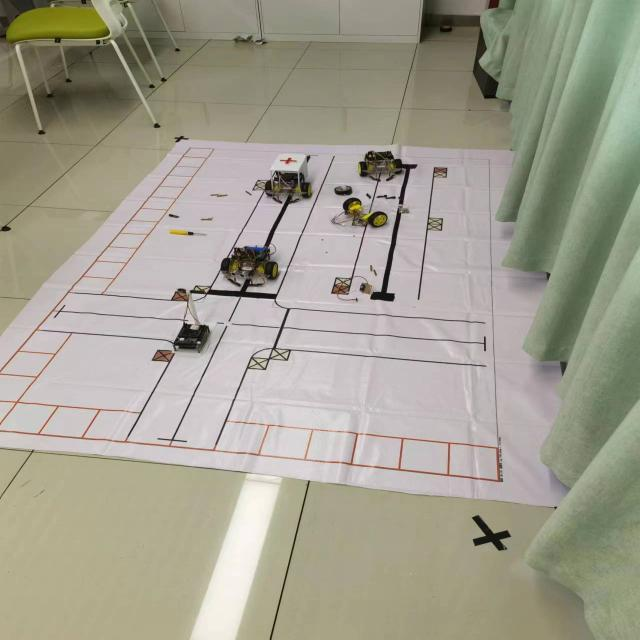RedCross: (280, 157, 298, 165)
